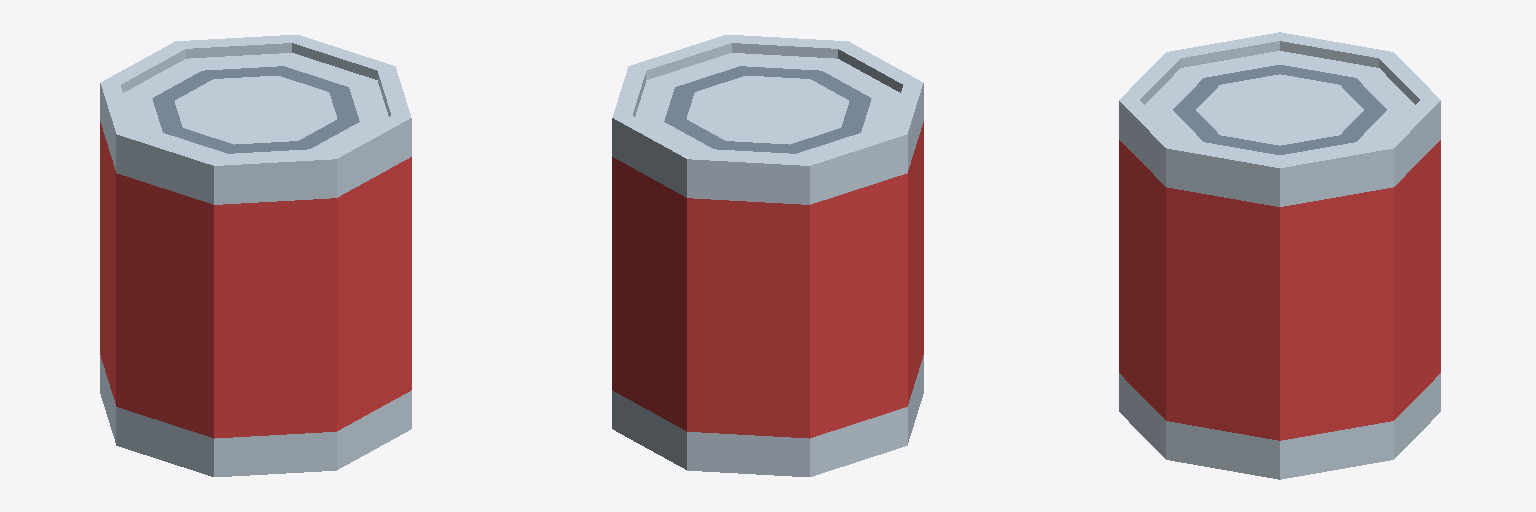
File: can.obj
3 renders of one model, left to right at view 1: azimuth 30°, elevation 25°; view 2: azimuth 150°, elevation 25°; view 3: azimuth 270°, elevation 25°, orthographic.
Parts seen in each view (by area): view 1: can; view 2: can; view 3: can.
Part boxes in pixels (left/top/right/bottom): can: left=100, top=35, right=411, bottom=476; can: left=612, top=35, right=923, bottom=476; can: left=1119, top=32, right=1440, bottom=479.
Bounding box in the file's own units: 0.3 × 0.32 × 0.3.